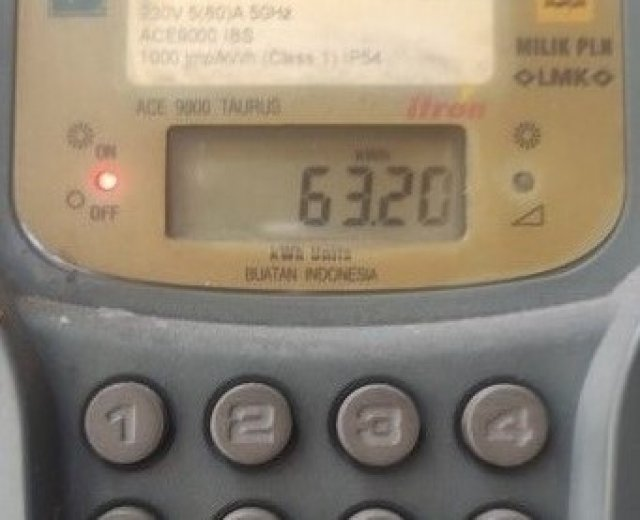box: (166, 125, 468, 242)
